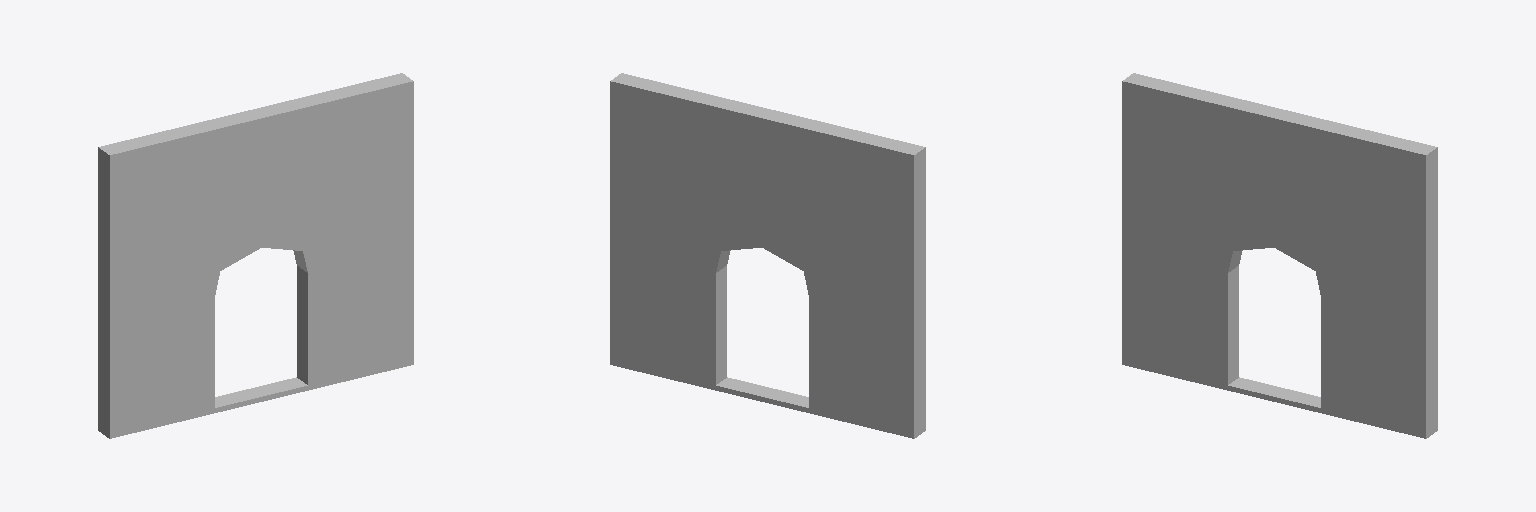
File: GateWall.obj
3 renders of one model, left to right at view 1: azimuth 30°, elevation 25°; view 2: azimuth 150°, elevation 25°; view 3: azimuth 330°, elevation 25°, orthographic.
Parts seen in each view (by area): view 1: Cube.002; view 2: Cube.002; view 3: Cube.002.
Part boxes in pixels (x1,y1,x2,y2): Cube.002: (98, 73, 413, 438); Cube.002: (610, 73, 925, 438); Cube.002: (1122, 73, 1437, 438).
Size of the model in its own units: 5.33 by 4.74 by 0.3433.